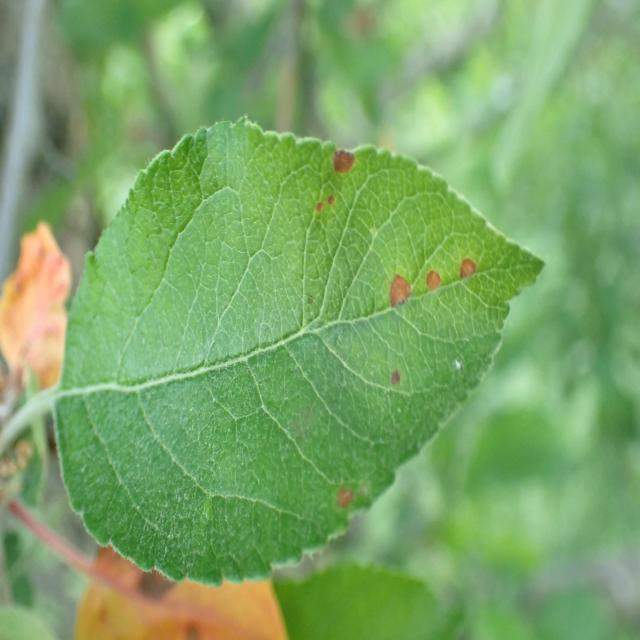Black Rot: (317, 125, 356, 193), (378, 266, 414, 326), (452, 247, 488, 304), (322, 468, 362, 514), (424, 243, 445, 319), (314, 186, 340, 242), (371, 354, 404, 393)
